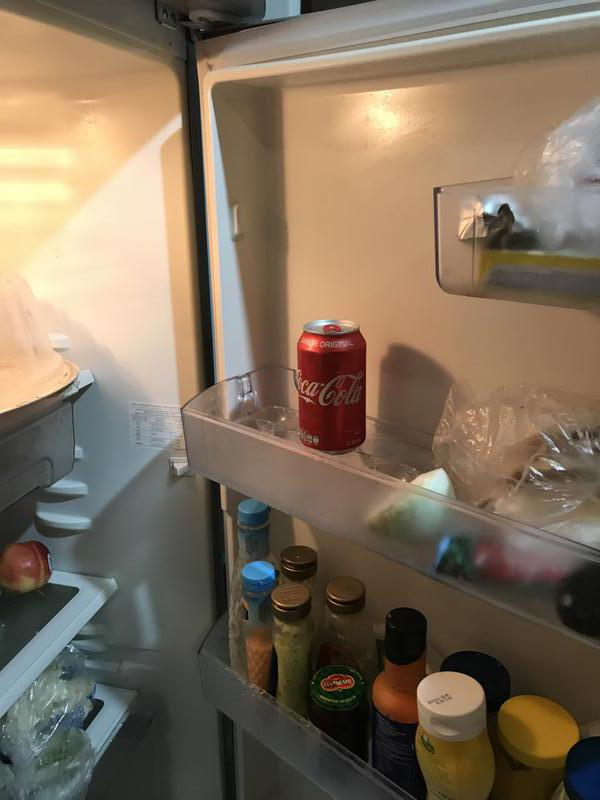coca_cola: (297, 322, 366, 454)
